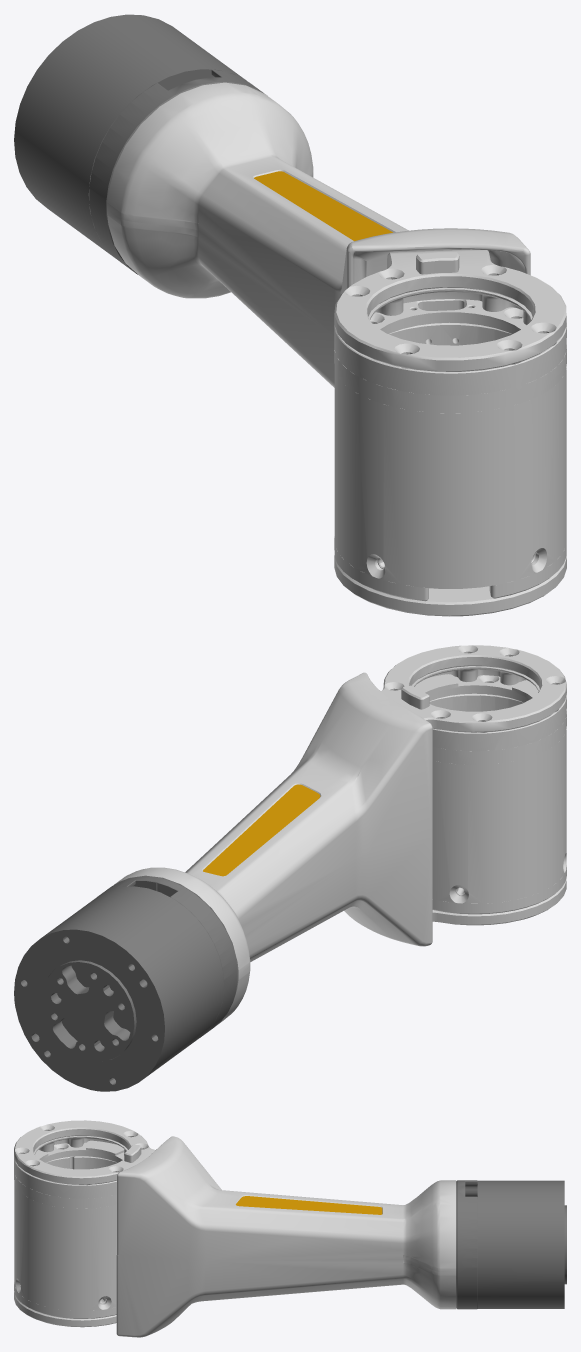
3 renders of one model, top to bottom at view 1: azimuth 30°, elevation 25°; view 2: azimuth 150°, elevation 25°; view 3: azimuth 270°, elevation 25°, orthographic. The views are drawn at different scales.
Parts seen in each view (by area): view 1: link3; view 2: link3; view 3: link3.
Boxes of the visible parts, x1,y1,x2,y2 form: link3: (14, 14, 566, 616); link3: (14, 645, 566, 1091); link3: (14, 1120, 566, 1337).
Size of the model in its own units: 0.0805 by 0.2448 by 0.0807.
